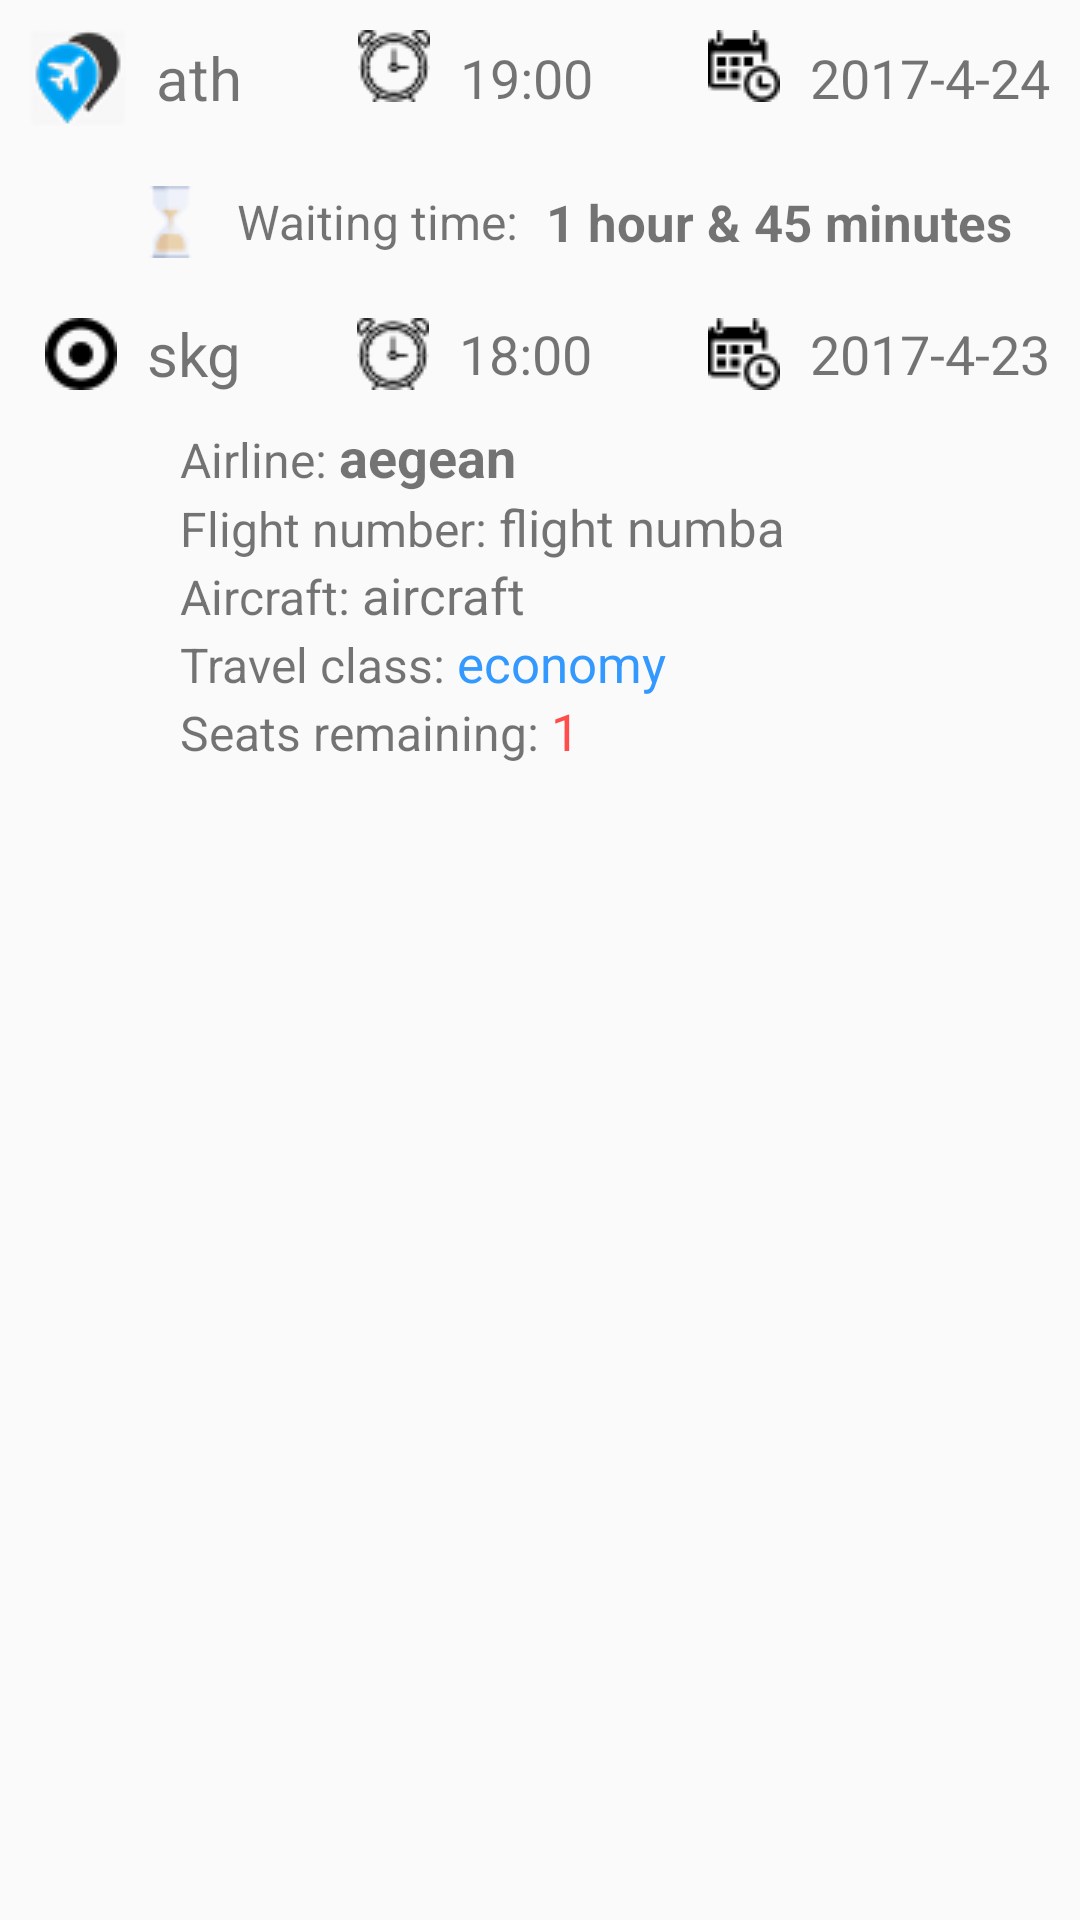

Where to tap for icons on this 1080 x 1920 app screen, as [x,y]:
airport stop: [78,78]
alarm clock: [394,66], [393,354]
calendar: [744,66], [744,354]
dot: [81,354]
